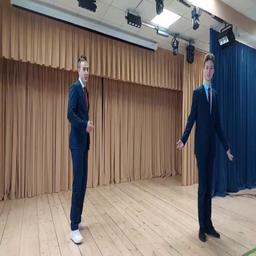person: (178, 54, 233, 242), (67, 56, 93, 243)
